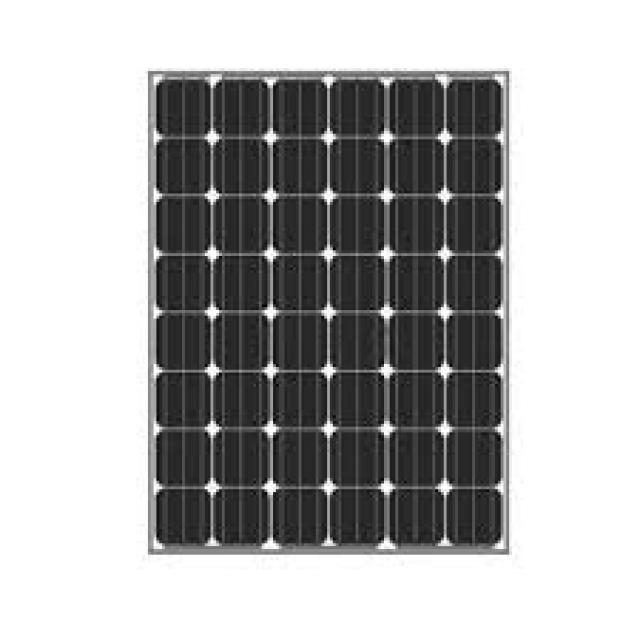no faulty: (150, 70, 515, 556)
